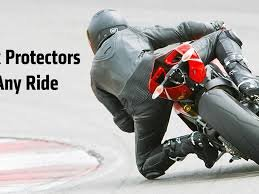motor: (144, 44, 259, 173)
